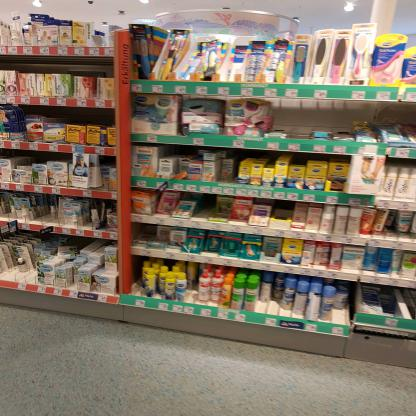Void: (270, 100, 350, 136), (15, 59, 112, 75), (49, 105, 115, 126), (356, 101, 414, 124), (276, 202, 292, 230), (198, 192, 213, 218), (29, 152, 72, 161)
